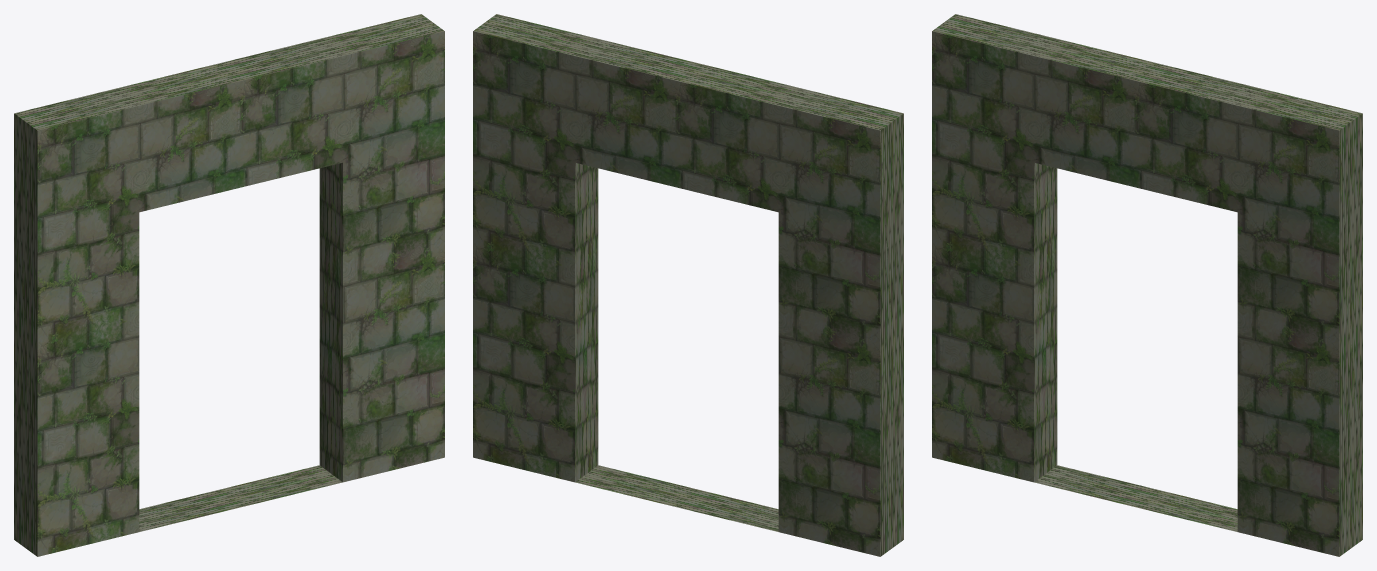
The model's file is Arco.fbx.
3 renders of one model, left to right at view 1: azimuth 30°, elevation 25°; view 2: azimuth 150°, elevation 25°; view 3: azimuth 330°, elevation 25°, orthographic.
Visible parts, largest first — view 1: Box001; view 2: Box001; view 3: Box001.
Boxes of the visible parts, bbox=[...] form: Box001: bbox=[14, 14, 444, 556]; Box001: bbox=[473, 14, 903, 556]; Box001: bbox=[932, 14, 1362, 556].
Size of the model in its own units: 100 by 100 by 10.
1 material, 1 textured.
